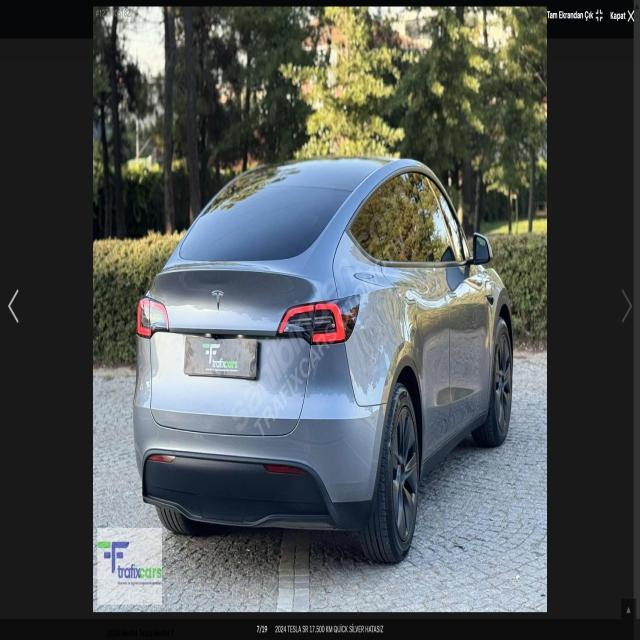tesla: (207, 270, 232, 326)
